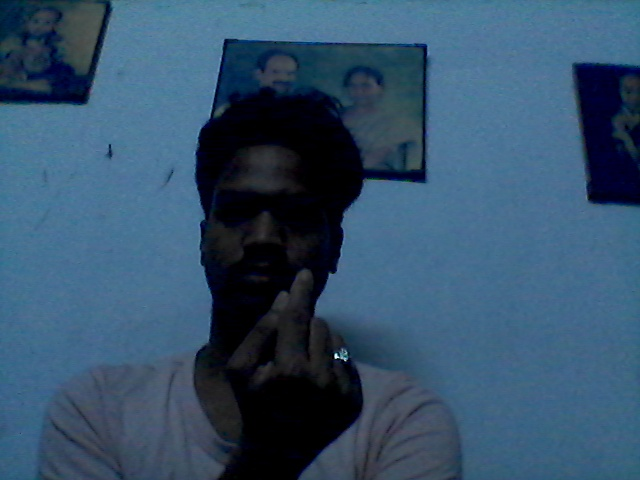Excuse Me: (220, 261, 369, 454)
